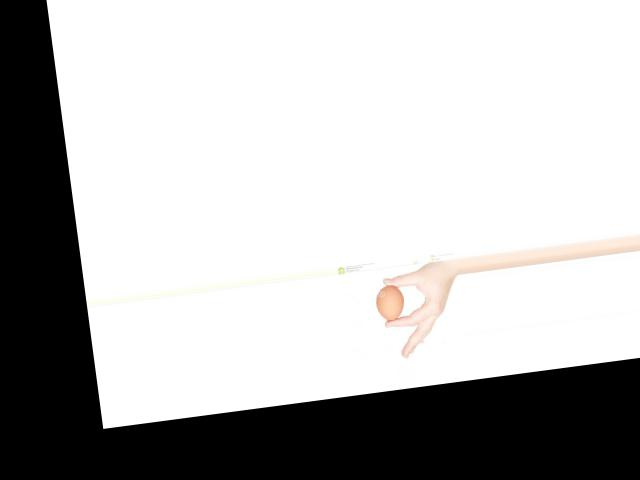egg: (374, 282, 407, 321)
